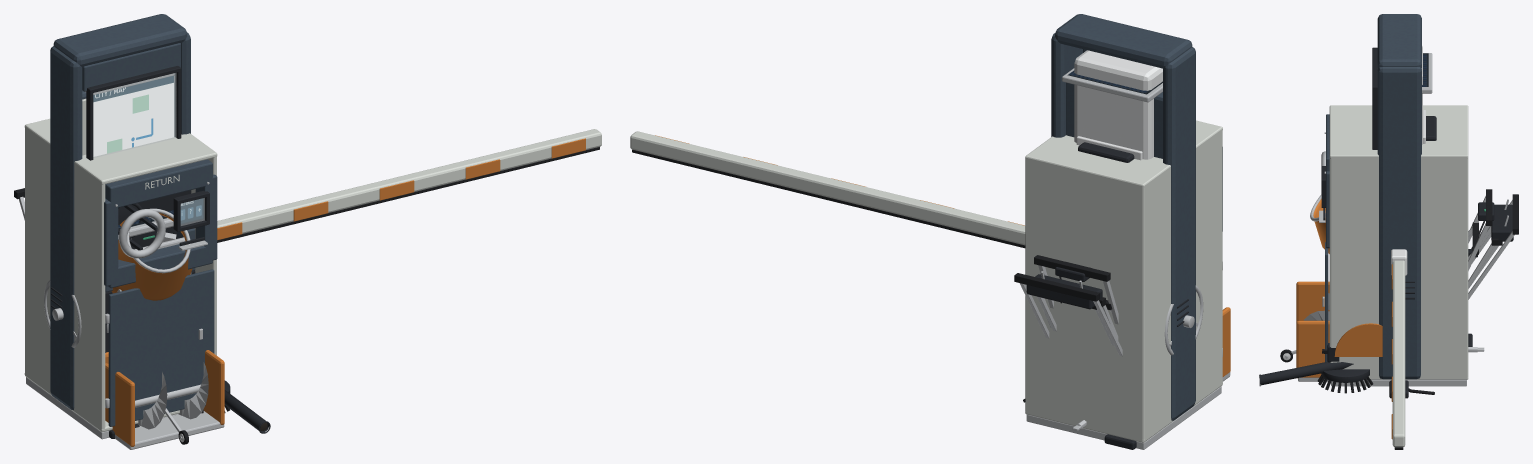
File: street_00.glb
3 views of the same model, side by side, from view 1: azimuth 30°, elevation 25°; view 2: azimuth 150°, elevation 25°; view 3: azimuth 270°, elevation 25° (orthographic). The views are drawn at different scales.
Visible parts, largest first — view 1: ssv_007_normal, ssv_002_normal, ssv_010_normal, ssv_015_normal, ssv_011_normal, ssv_004_normal, ssv_014_normal, ssv_018_normal; view 2: ssv_007_normal, ssv_002_normal, ssv_010_normal, ssv_015_normal, ssv_018_normal, ssv_005_normal; view 3: ssv_007_normal, ssv_002_normal, ssv_015_normal, ssv_010_normal, ssv_012_normal, ssv_005_normal, ssv_014_normal, ssv_018_normal, ssv_011_normal.
Boxes of the visible parts, x1=… form: ssv_007_normal: x1=24, y1=118, x2=217, y2=439; ssv_002_normal: x1=50, y1=14, x2=190, y2=409; ssv_010_normal: x1=217, y1=129, x2=601, y2=242; ssv_015_normal: x1=14, y1=188, x2=224, y2=449; ssv_011_normal: x1=44, y1=208, x2=192, y2=347; ssv_004_normal: x1=105, y1=210, x2=195, y2=332; ssv_014_normal: x1=224, y1=390, x2=270, y2=433; ssv_018_normal: x1=82, y1=73, x2=174, y2=438; ssv_007_normal: x1=1025, y1=120, x2=1222, y2=449; ssv_002_normal: x1=1051, y1=14, x2=1195, y2=420; ssv_010_normal: x1=630, y1=131, x2=1025, y2=248; ssv_015_normal: x1=1014, y1=271, x2=1230, y2=381; ssv_018_normal: x1=1062, y1=68, x2=1162, y2=449; ssv_005_normal: x1=1034, y1=255, x2=1118, y2=324; ssv_007_normal: x1=1319, y1=105, x2=1468, y2=386; ssv_002_normal: x1=1372, y1=14, x2=1425, y2=379; ssv_015_normal: x1=1296, y1=194, x2=1518, y2=381; ssv_010_normal: x1=1391, y1=249, x2=1407, y2=449; ssv_012_normal: x1=1280, y1=226, x2=1498, y2=362; ssv_005_normal: x1=1317, y1=189, x2=1494, y2=393; ssv_014_normal: x1=1259, y1=343, x2=1353, y2=386; ssv_018_normal: x1=1389, y1=53, x2=1472, y2=398; ssv_011_normal: x1=1310, y1=195, x2=1329, y2=253.
Size of what is drawn, in the model's own units: 3.8 by 2.43 by 1.76.
Materials: 13 (6 with a texture image).
